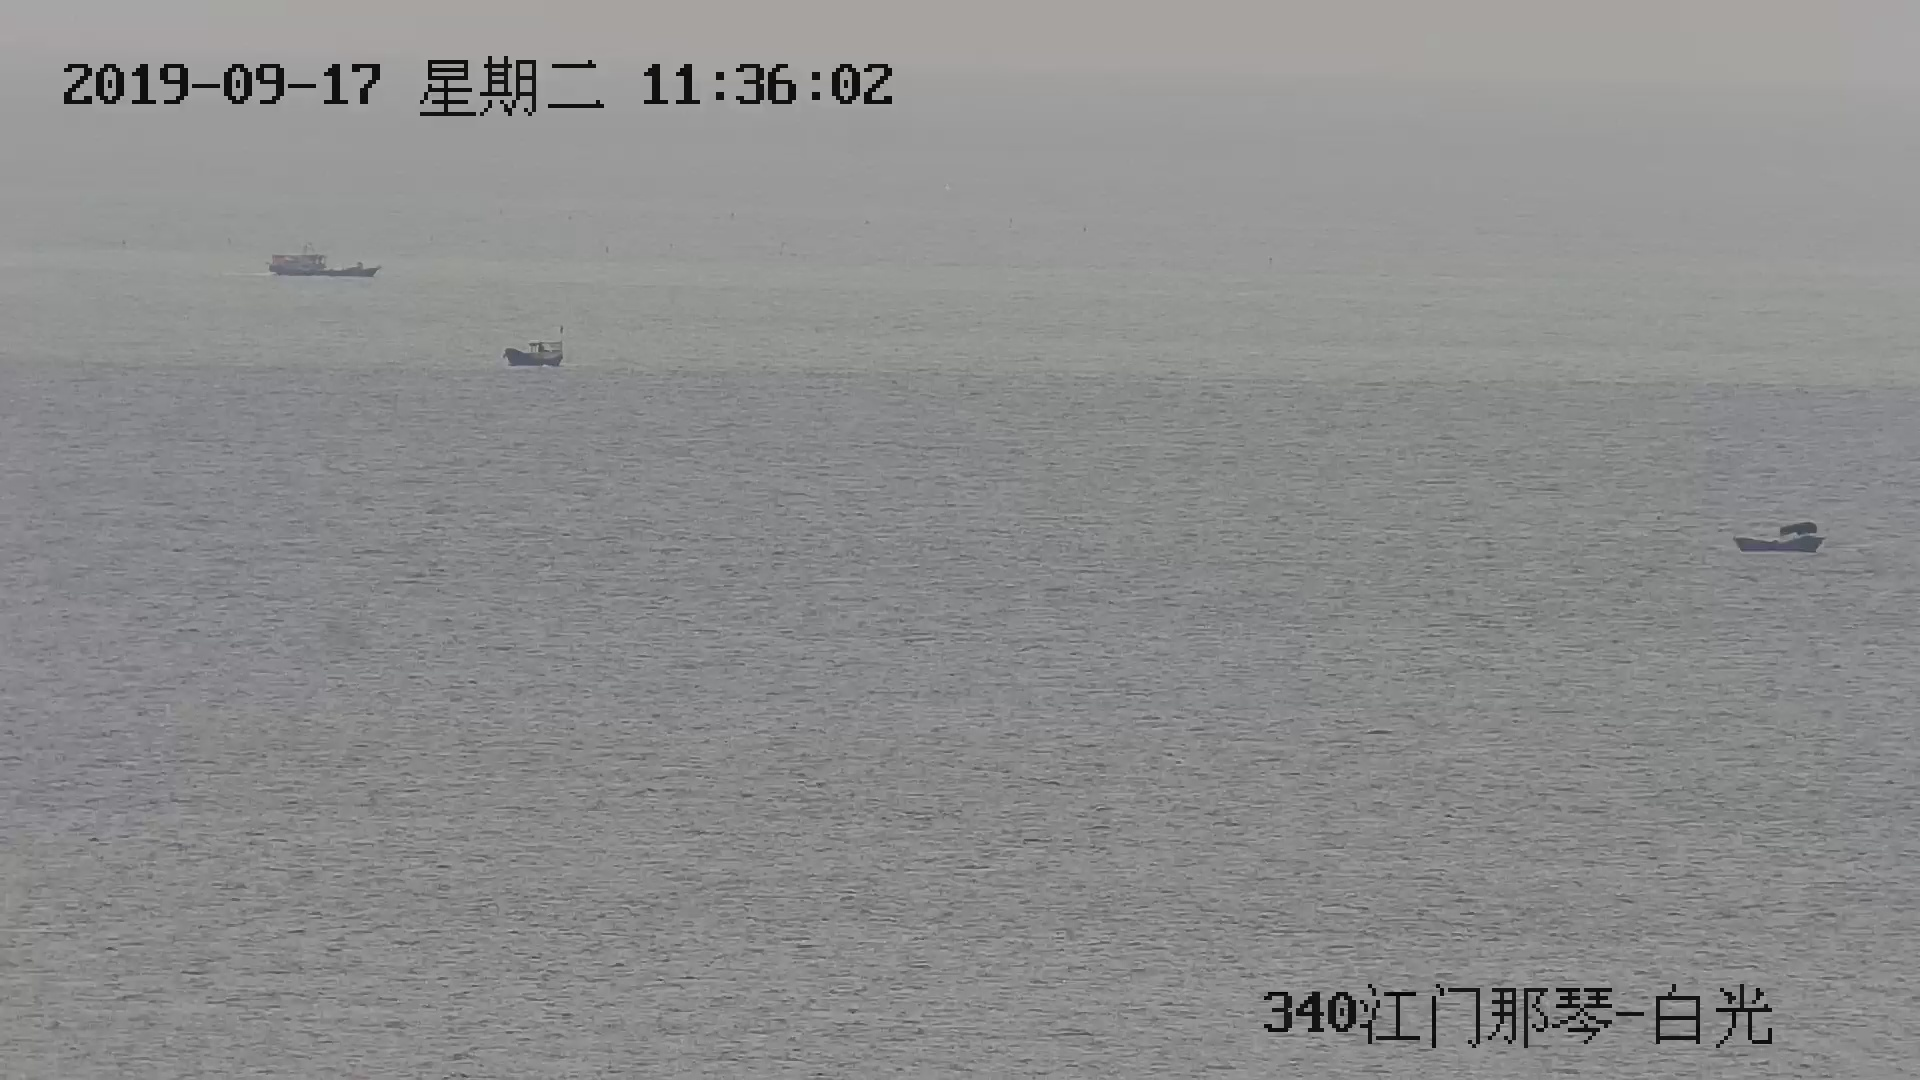ship: (269, 248, 382, 281), (1734, 517, 1826, 555), (504, 330, 566, 369)
